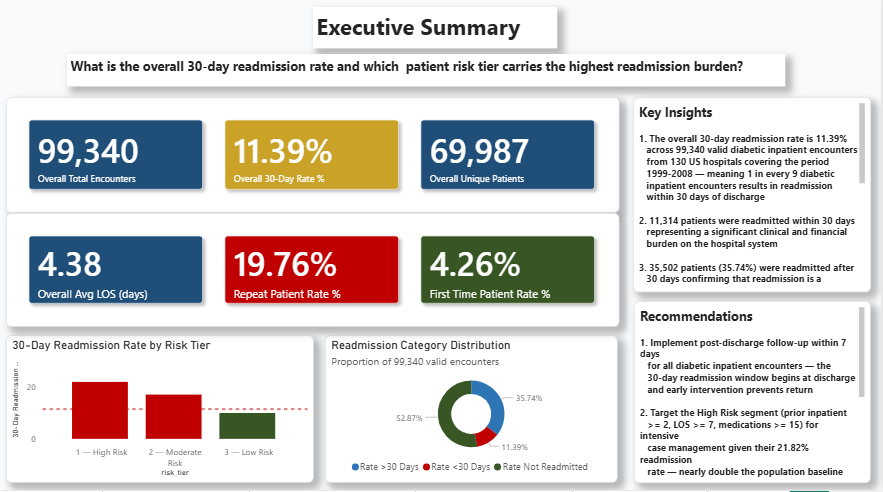

The dashboard page shown, as its layout file describes it:
{"tool":"powerbi","page":{"name":"Executive Summary","canvas":[1280,720],"ordinal":0},"visuals":[{"type":"cardVisual","fields":{"Data":["public vw_kpi_overall_readmission.Overall Total Encounters","public vw_kpi_overall_readmission.Overall 30-Day Rate %","public vw_kpi_overall_readmission.Overall Unique Patients"]},"box":[13.4,151.2,888.6,168],"z":0},{"type":"textbox","box":[457.8,19.8,354.3,59.5],"z":1000},{"type":"textbox","box":[921.7,150.7,344.9,282.6],"z":3000},{"type":"textbox","box":[923.2,446.4,343.5,263.8],"z":4000},{"type":"clusteredColumnChart","title":"30-Day Readmission Rate by Risk Tier","fields":{"Y":["public vw_kpi_high_risk_segments.Risk Tier Rate %"],"Category":["public vw_kpi_high_risk_segments.risk_tier"]},"box":[13,495.7,446.4,214.5],"z":5000},{"type":"donutChart","title":"Readmission Category Distribution","fields":{"Y":["public vw_kpi_overall_readmission.Rate >30 Days","public vw_kpi_overall_readmission.Rate <30 Days","public vw_kpi_overall_readmission.Rate Not Readmitted"]},"box":[474.8,496.1,423.8,214],"z":6000},{"type":"textbox","box":[100.8,89,1041.5,47],"z":7000},{"type":"cardVisual","fields":{"Data":["public vw_kpi_overall_readmission.Overall Avg LOS (days)","public vw_kpi_repeat_patient_readmission.Repeat Patient Rate %","public vw_kpi_repeat_patient_readmission.First Time Patient Rate %"]},"box":[13.4,319.2,888.6,164.6],"z":8000}]}

Visuals, with their boxes in screenshot pixels (x1, y1, x2, y2), scaled from the page's 1280x720 canvas onto the 883x492 screenshot:
cardVisual - public vw_kpi_overall_readmission.Overall Total Encounters x public vw_kpi_overall_readmission.Overall 30-Day Rate %: {"x1": 9, "y1": 103, "x2": 622, "y2": 218}
textbox: {"x1": 316, "y1": 14, "x2": 560, "y2": 54}
textbox: {"x1": 636, "y1": 103, "x2": 874, "y2": 296}
textbox: {"x1": 637, "y1": 305, "x2": 874, "y2": 485}
"30-Day Readmission Rate by Risk Tier" clusteredColumnChart: {"x1": 9, "y1": 339, "x2": 317, "y2": 485}
"Readmission Category Distribution" donutChart: {"x1": 328, "y1": 339, "x2": 620, "y2": 485}
textbox: {"x1": 70, "y1": 61, "x2": 788, "y2": 93}
cardVisual - public vw_kpi_overall_readmission.Overall Avg LOS (days) x public vw_kpi_repeat_patient_readmission.Repeat Patient Rate %: {"x1": 9, "y1": 218, "x2": 622, "y2": 331}
